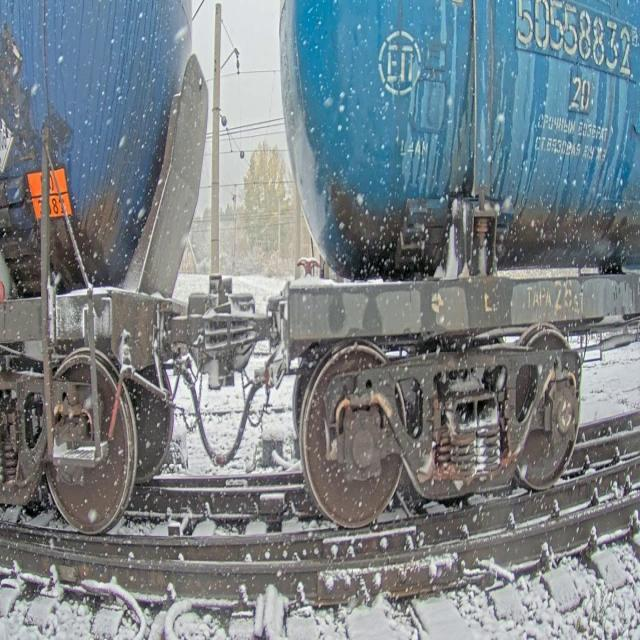tank: (265, 0, 640, 549), (0, 0, 215, 558)
